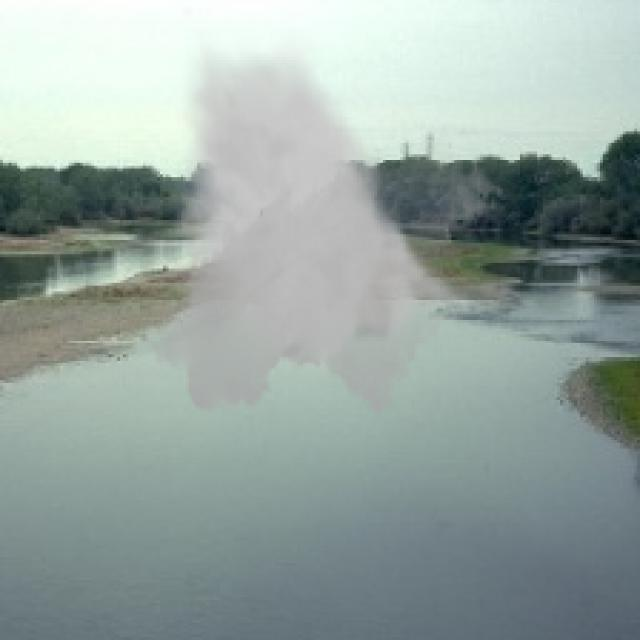smoke: (140, 28, 506, 423)
